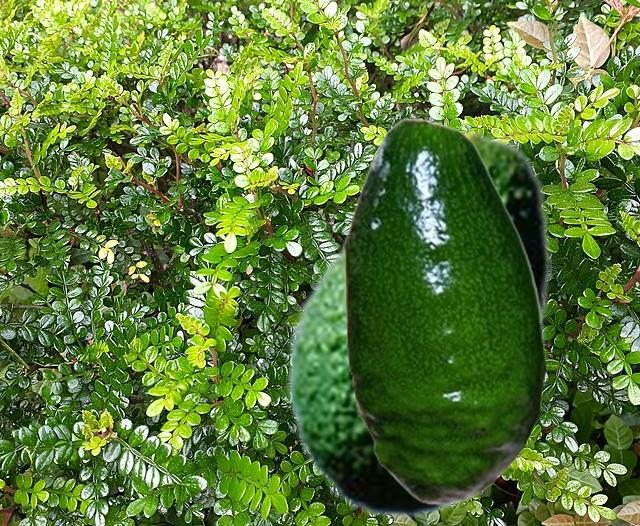avocado: (286, 131, 550, 518), (343, 117, 546, 504)
